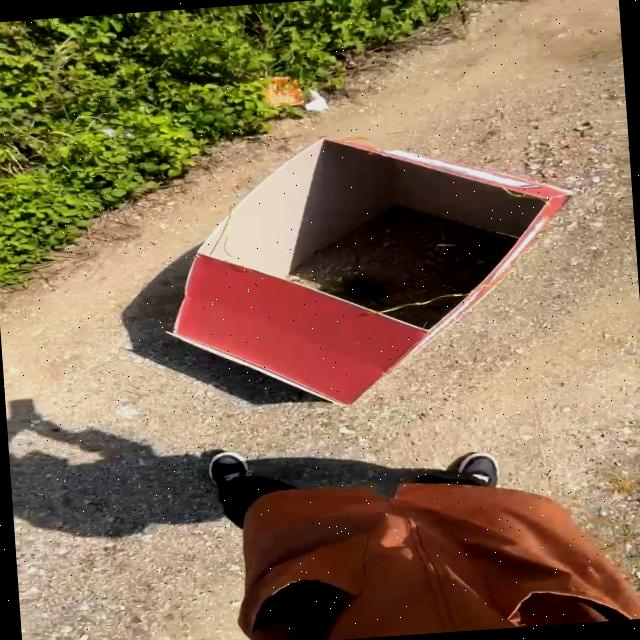red_car: (95, 107, 640, 433)
